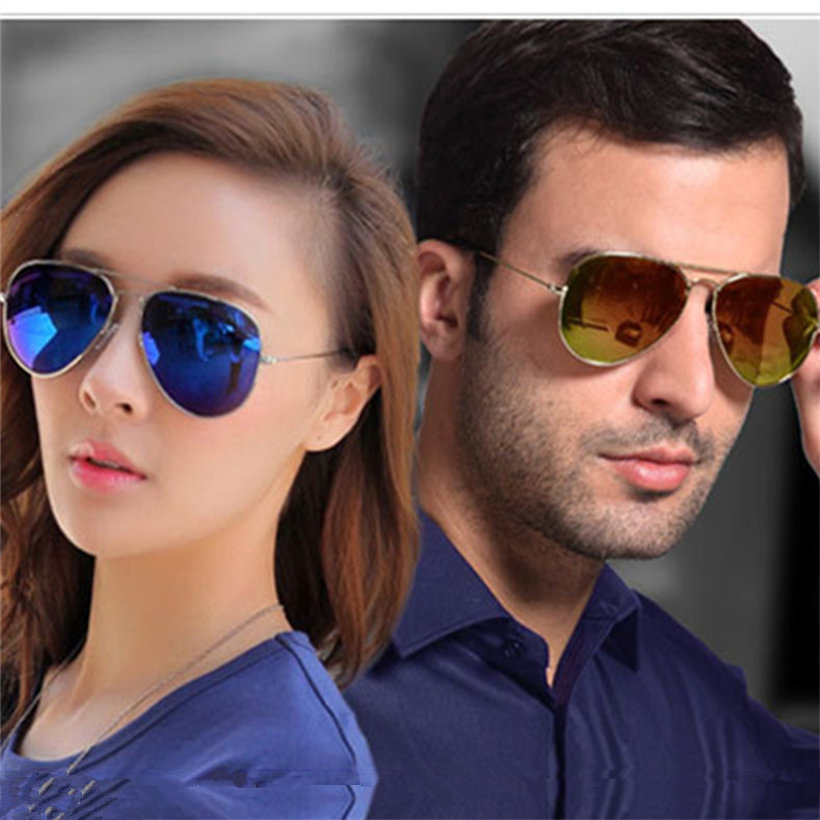sunglasses: (6, 256, 325, 405), (526, 242, 820, 391)
